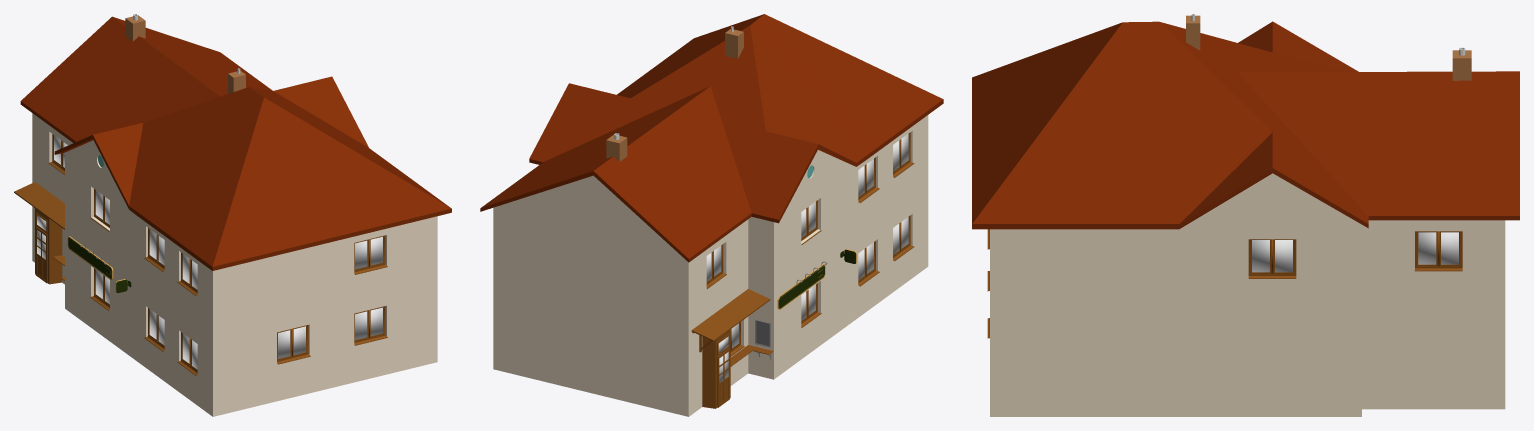
Rendered from UHnata.glb.
3 views of the same model, side by side, from view 1: azimuth 30°, elevation 25°; view 2: azimuth 150°, elevation 25°; view 3: azimuth 270°, elevation 25° (orthographic). The views are drawn at different scales.
Parts seen in each view (by area): view 1: Cube.001, window.006, Cube.007, Cube.004, window.004, window.005, window.003, window.007, Cube.003, window.002; view 2: Cube.001, window.006, Cube.007, Cube.004, window.007, Cube.003, window.002; view 3: Cube.001, window.001, window.011.
Part boxes in pixels (<box>): Cube.001: <box>20,14,451,416</box>; window.006: <box>144,228,197,375</box>; Cube.007: <box>35,208,64,284</box>; Cube.004: <box>14,182,64,229</box>; window.004: <box>354,306,387,345</box>; window.005: <box>277,325,310,364</box>; window.003: <box>354,235,387,274</box>; window.007: <box>90,189,109,310</box>; Cube.003: <box>67,236,113,279</box>; window.002: <box>49,134,67,174</box>; Cube.001: <box>480,14,943,416</box>; window.006: <box>858,132,914,286</box>; Cube.007: <box>702,329,773,408</box>; Cube.004: <box>691,289,770,352</box>; window.007: <box>801,200,821,327</box>; Cube.003: <box>777,264,825,309</box>; window.002: <box>706,244,726,288</box>; Cube.001: <box>972,14,1519,416</box>; window.001: <box>1414,231,1462,271</box>; window.011: <box>1248,239,1296,278</box>.
Size of the model in its own units: 6.14 by 6.27 by 9.43.
